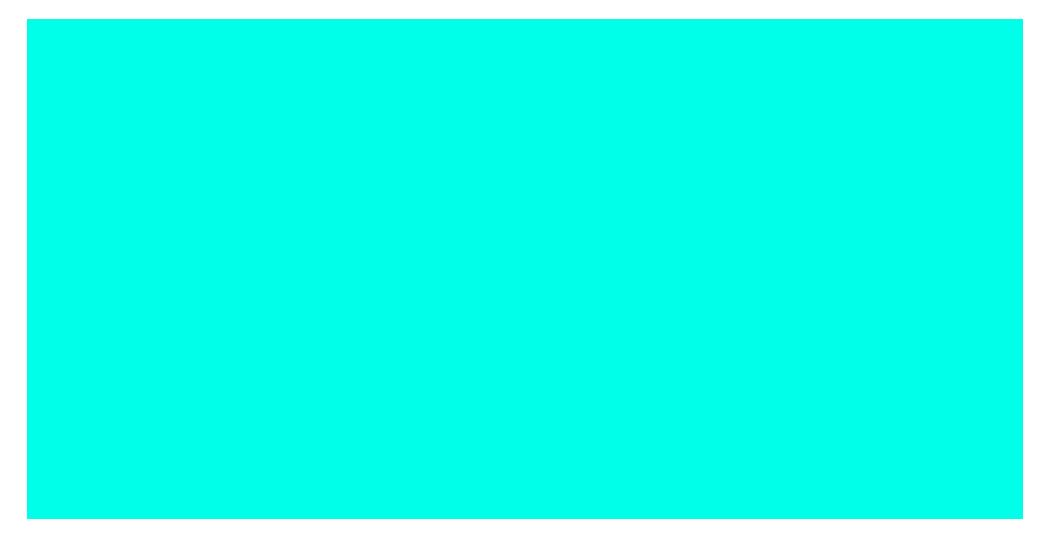cyan_zone: (28, 20, 1024, 520)
